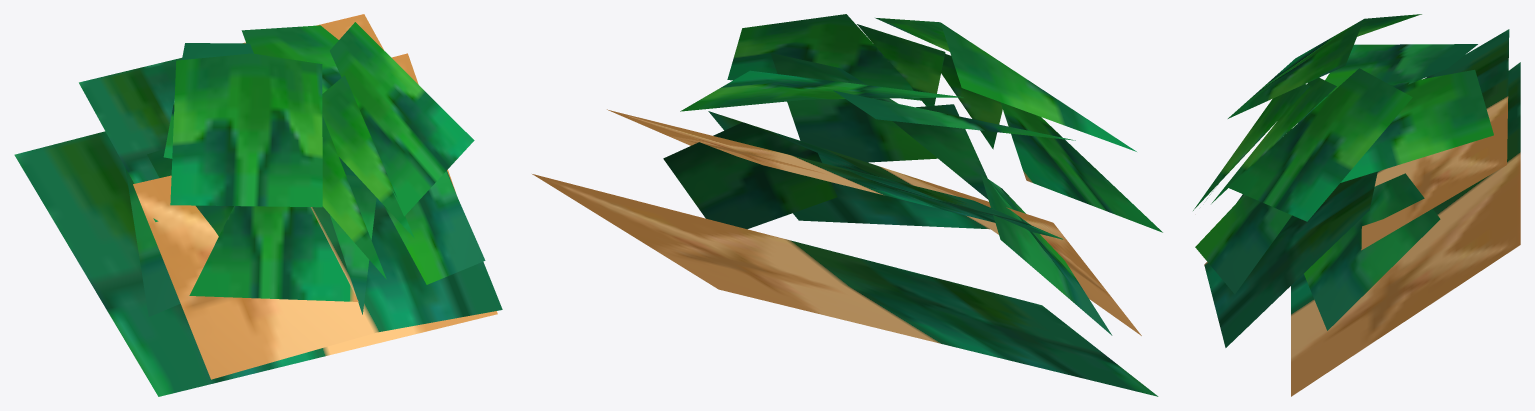
Rendered from fg_bushE_2.dae.
The picture shows the model from 3 angles, left to right: view 1: azimuth 30°, elevation 25°; view 2: azimuth 150°, elevation 25°; view 3: azimuth 270°, elevation 25°; orthographic projection. The views are drawn at different scales.
Parts seen in each view (by area): view 1: fg_bushE_2; view 2: fg_bushE_2; view 3: fg_bushE_2.
Part boxes in pixels (x1,y1,x2,y2): fg_bushE_2: (14, 14, 502, 396); fg_bushE_2: (532, 14, 1162, 396); fg_bushE_2: (1193, 14, 1520, 396).
Bounding box in the file's own units: 50.84 × 35.08 × 37.48.
1 material, 1 textured.
